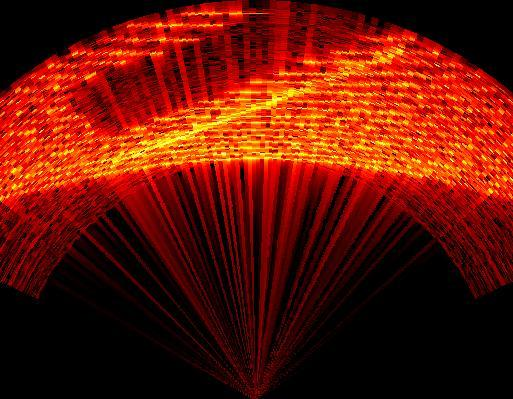pipe: (64, 2, 431, 159)
